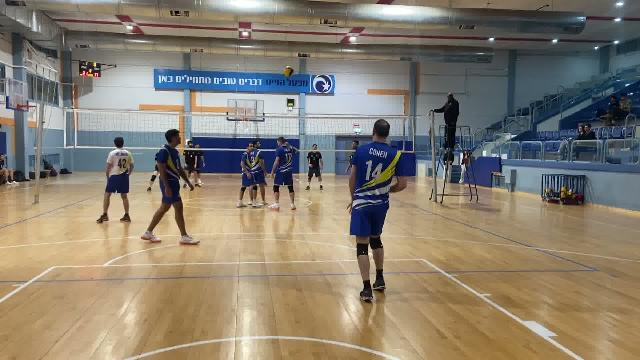ball: (285, 64, 295, 79)
